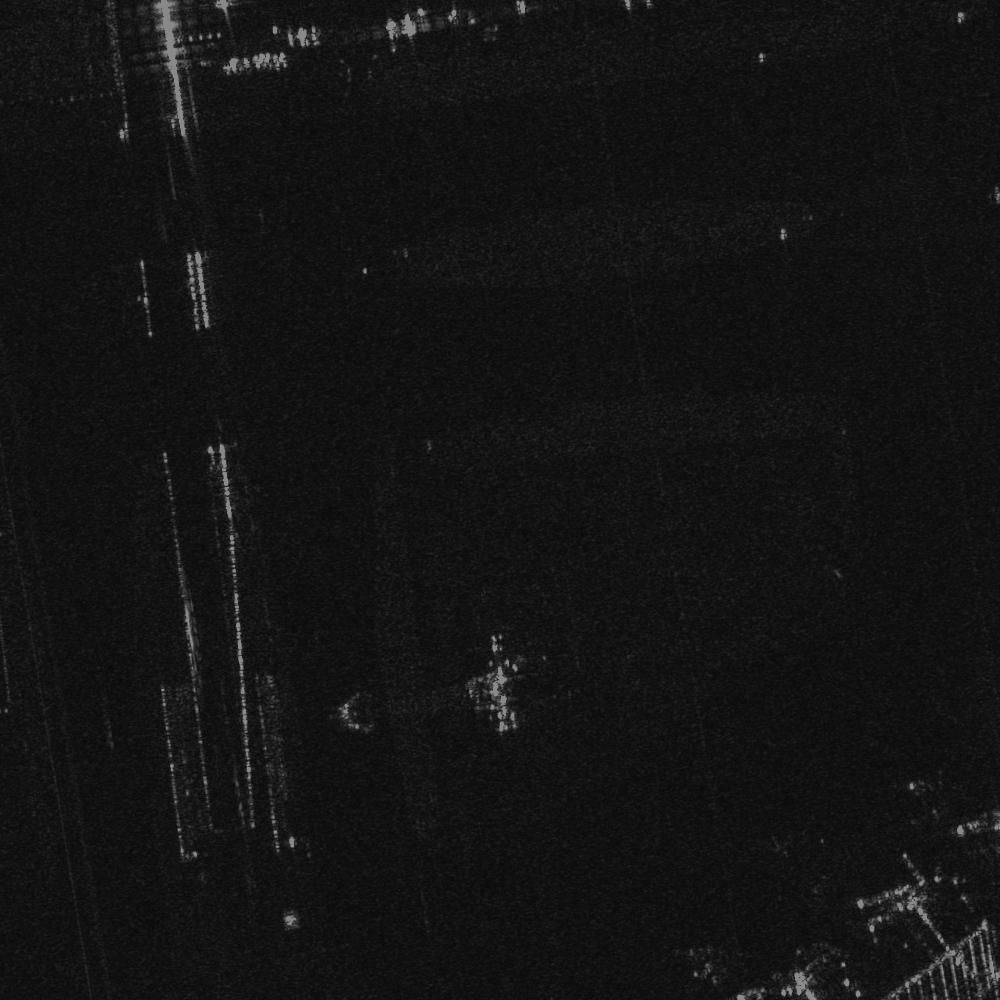A220: (908, 778, 961, 822)
